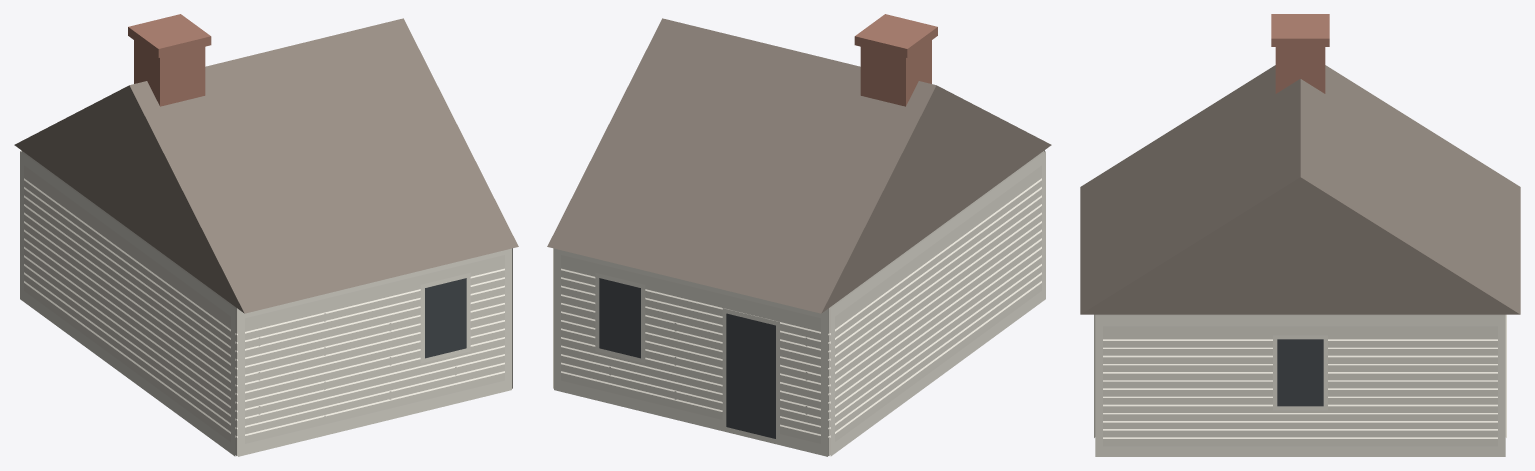
The model's file is recon_1835_blk_randolph_dearborn_d3_01__inferred_1835.glb.
3 renders of one model, left to right at view 1: azimuth 30°, elevation 25°; view 2: azimuth 150°, elevation 25°; view 3: azimuth 270°, elevation 25°, orthographic. The views are drawn at different scales.
Visible parts, largest first — view 1: recon_1835_blk_randolph_dearborn_d3_01__inferred_1835; view 2: recon_1835_blk_randolph_dearborn_d3_01__inferred_1835; view 3: recon_1835_blk_randolph_dearborn_d3_01__inferred_1835.
Boxes of the visible parts, <box> form: recon_1835_blk_randolph_dearborn_d3_01__inferred_1835: <box>14,14,518,456</box>; recon_1835_blk_randolph_dearborn_d3_01__inferred_1835: <box>547,14,1051,456</box>; recon_1835_blk_randolph_dearborn_d3_01__inferred_1835: <box>1080,14,1520,456</box>.
Size of the model in its own units: 5.18 by 5.98 by 7.43.
